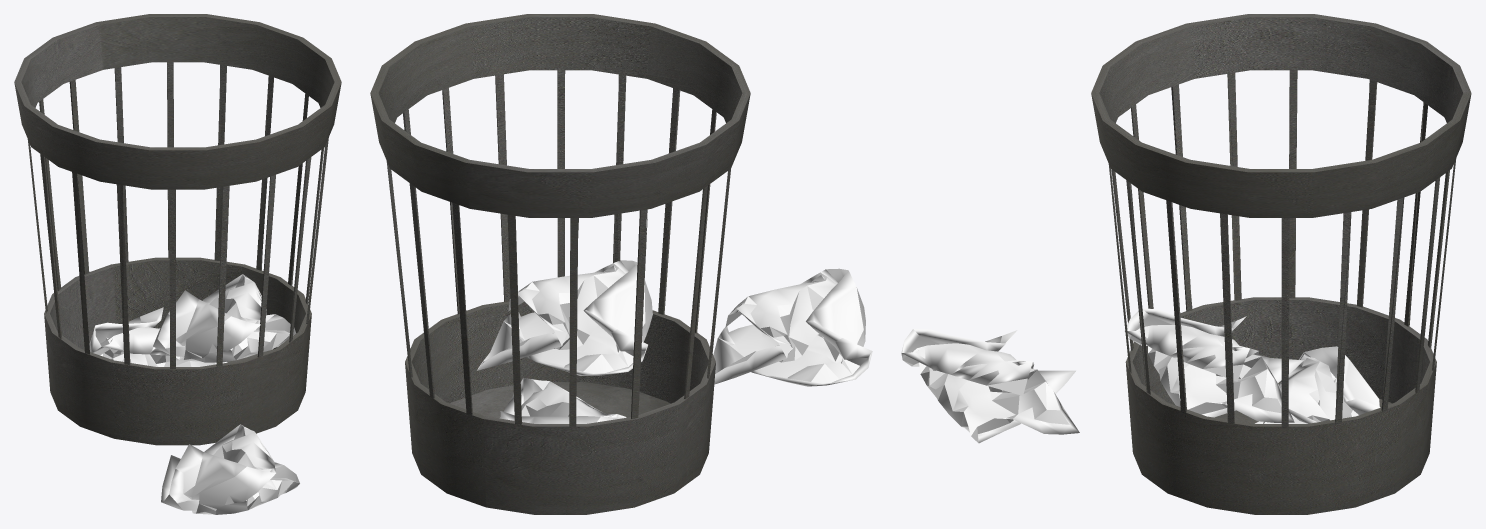
The model's file is Bin.FBX.
The picture shows the model from 3 angles, left to right: view 1: azimuth 30°, elevation 25°; view 2: azimuth 150°, elevation 25°; view 3: azimuth 270°, elevation 25°; orthographic projection. The views are drawn at different scales.
Parts seen in each view (by area): view 1: Bin, Paper 2, Paper 3, Paper 1; view 2: Bin, Paper 2, Paper 3, Paper 1; view 3: Bin, Paper 2, Paper 3, Paper 1.
Part boxes in pixels (<box>): Bin: <box>14,14,341,445</box>; Paper 2: <box>161,424,299,514</box>; Paper 3: <box>153,274,296,362</box>; Paper 1: <box>89,307,227,366</box>; Bin: <box>370,14,750,514</box>; Paper 2: <box>713,268,872,386</box>; Paper 3: <box>477,260,652,375</box>; Paper 1: <box>499,377,626,423</box>; Bin: <box>1091,14,1471,514</box>; Paper 2: <box>901,329,1079,443</box>; Paper 3: <box>1125,308,1303,422</box>; Paper 1: <box>1255,346,1380,423</box>.
Bounding box in the file's own units: 15.33 × 23.31 × 16.24.
2 materials, 1 textured.
